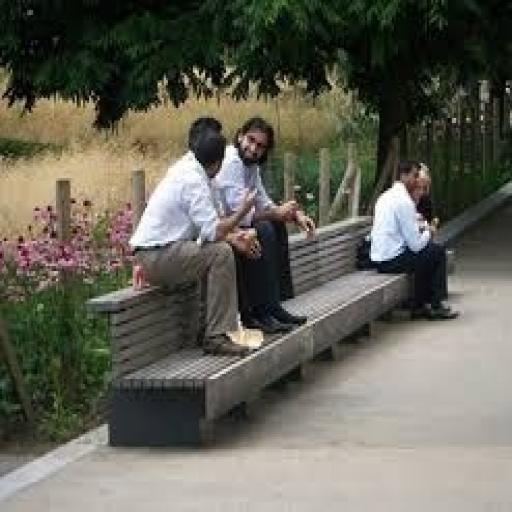sitting: (127, 110, 317, 356), (367, 156, 460, 321)
